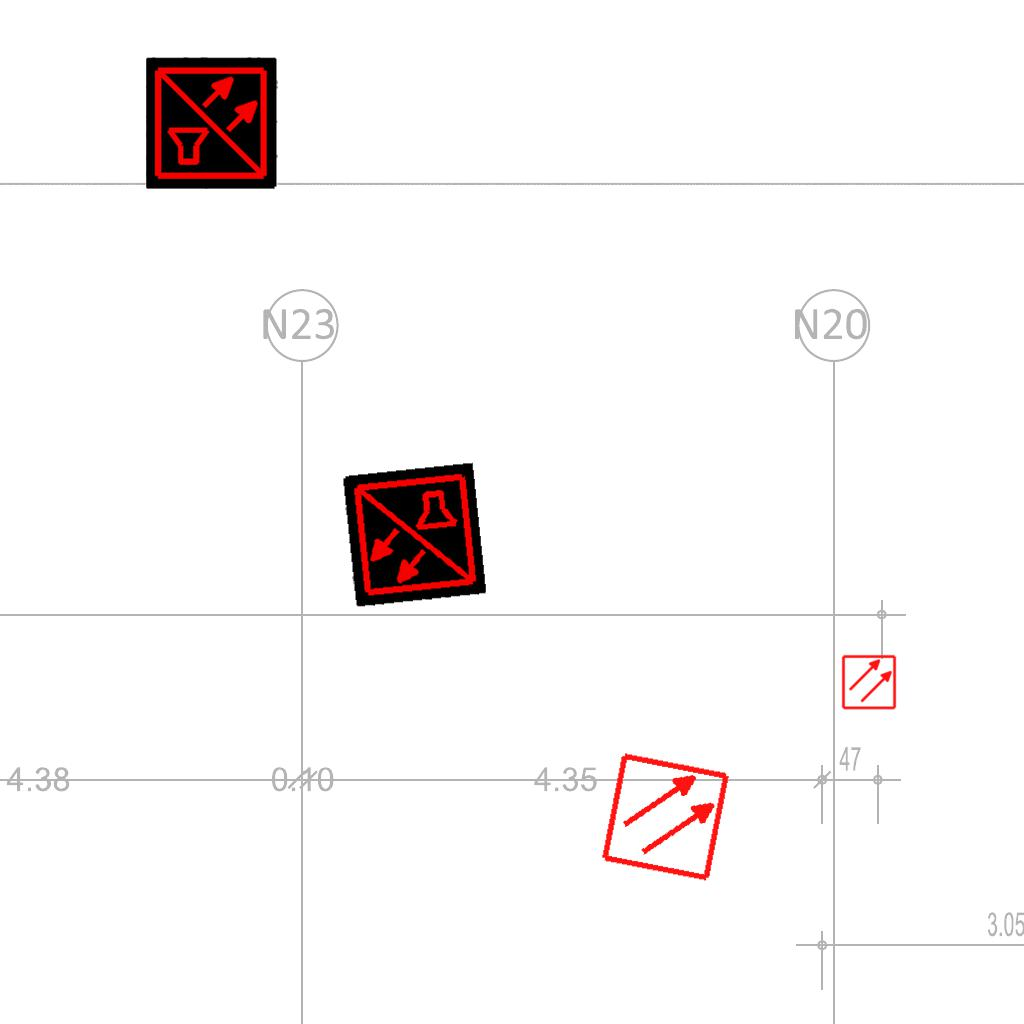OKW_Multisensormelder_(Kombination_optischer_Rauch-Kahlenmonoxid_Waerme-Melder): (341, 462, 487, 608), (146, 57, 278, 189)
RMO_Rauchmelder_optischer: (599, 750, 732, 883), (841, 654, 897, 710)
